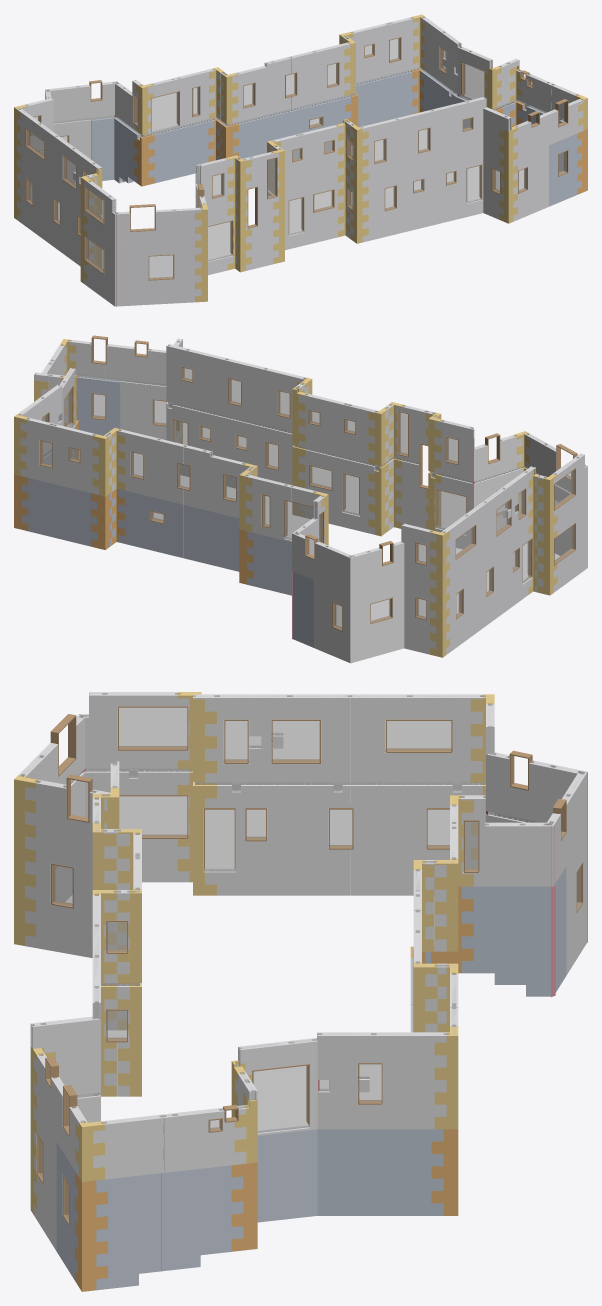
Rendered from PCS-0167_Camphill.glb.
The picture shows the model from 3 angles, top to bottom: view 1: azimuth 30°, elevation 25°; view 2: azimuth 150°, elevation 25°; view 3: azimuth 270°, elevation 25°; orthographic projection. The views are drawn at different scales.
Parts seen in each view (by area): view 1: L1_W20, L1_W18, B_W09, Concrete_B_W0--22(?), B_W07, Concrete_L1_W--151, L1_W25, L1_W09, Concrete_B_W0--12(?), L1_W16, Concrete_L1_W0--11, Concrete_B_W0--11(?); view 2: B_W07, B_W09, Concrete_B_W0--22(?), L1_W20, L1_W25, L1_W18, L1_W09, B_W25, Concrete_L1_W0--11, Concrete_B_W0--11(?), B_W11-C7-B1, L1_W16; view 3: B_W25, L1_W25, Concrete_L1_W--151, Concrete_B_W0--11(?), Concrete_L1_W0--11, B_W25-C7-B1, B_W27-C7-B2, B_W25-C7-B4, Concrete_L1_W--152, F_W25-C2-B1, L1_W15-C7-B1, X_B_W25-C7-B2 (+58 smaller).
Part boxes in pixels (left/top/right/bottom): L1_W20: left=141, top=69, right=216, bottom=136; L1_W18: left=226, top=42, right=354, bottom=125; B_W09: left=385, top=165, right=481, bottom=209; Concrete_B_W0--22(?): left=208, top=221, right=232, bottom=261; B_W07: left=289, top=190, right=333, bottom=235; Concrete_L1_W--151: left=459, top=46, right=491, bottom=100; L1_W25: left=17, top=107, right=100, bottom=187; L1_W09: left=358, top=97, right=484, bottom=162; Concrete_B_W0--12(?): left=149, top=255, right=173, bottom=279; L1_W16: left=350, top=15, right=421, bottom=84; Concrete_L1_W0--11: left=84, top=178, right=116, bottom=222; Concrete_B_W0--11(?): left=86, top=237, right=103, bottom=271; B_W07: left=294, top=445, right=381, bottom=515; B_W09: left=168, top=402, right=292, bottom=468; Concrete_B_W0--22(?): left=430, top=471, right=472, bottom=534; L1_W20: left=241, top=474, right=322, bottom=540; L1_W25: left=441, top=467, right=534, bottom=557; L1_W18: left=115, top=428, right=255, bottom=500; L1_W09: left=168, top=345, right=306, bottom=416; B_W25: left=456, top=540, right=531, bottom=616; Concrete_L1_W0--11: left=549, top=454, right=585, bottom=508; Concrete_B_W0--11(?): left=554, top=525, right=574, bottom=562; B_W11-C7-B1: left=77, top=375, right=121, bottom=389; L1_W16: left=26, top=418, right=98, bottom=466; B_W25: left=195, top=782, right=485, bottom=894; L1_W25: left=195, top=695, right=488, bottom=780; Concrete_L1_W--151: left=238, top=1039, right=316, bottom=1132; Concrete_B_W0--11(?): left=81, top=768, right=192, bottom=837; Concrete_L1_W0--11: left=81, top=693, right=188, bottom=748; B_W25-C7-B1: left=217, top=783, right=289, bottom=798; B_W27-C7-B2: left=119, top=769, right=189, bottom=784; B_W25-C7-B4: left=410, top=783, right=482, bottom=798; Concrete_L1_W--152: left=317, top=1033, right=455, bottom=1102; F_W25-C2-B1: left=205, top=869, right=277, bottom=884; L1_W15-C7-B1: left=361, top=1042, right=434, bottom=1055; X_B_W25-C7-B2: left=289, top=783, right=350, bottom=798.
Bounding box in the file's own units: 32.78 × 7.52 × 19.24.
